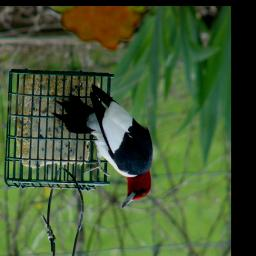Woodpecker: (51, 84, 153, 208)
